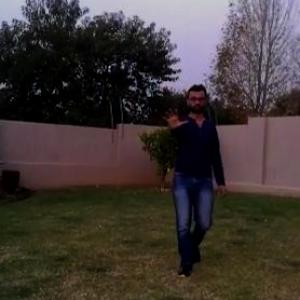follow_hand: (160, 104, 189, 132)
